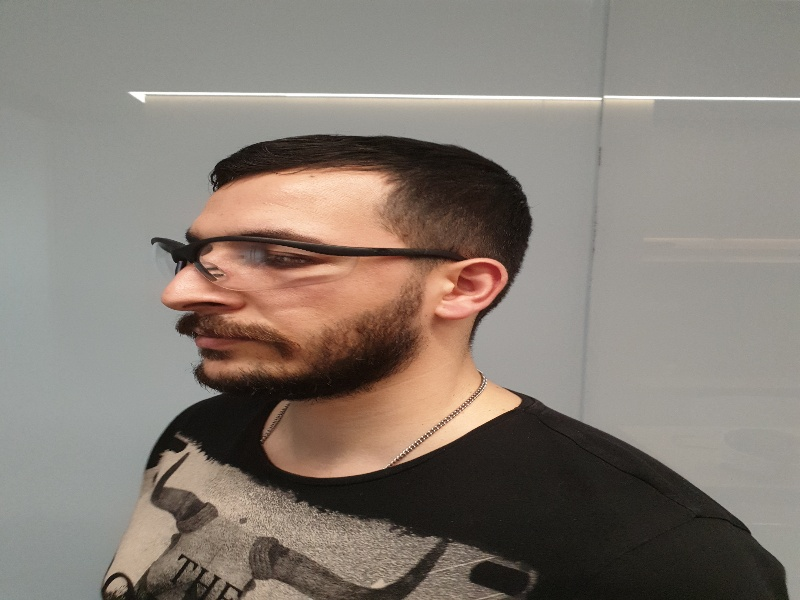Gozluk: (151, 237, 474, 285)
